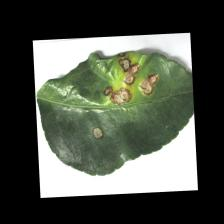canker: (78, 49, 162, 165)
